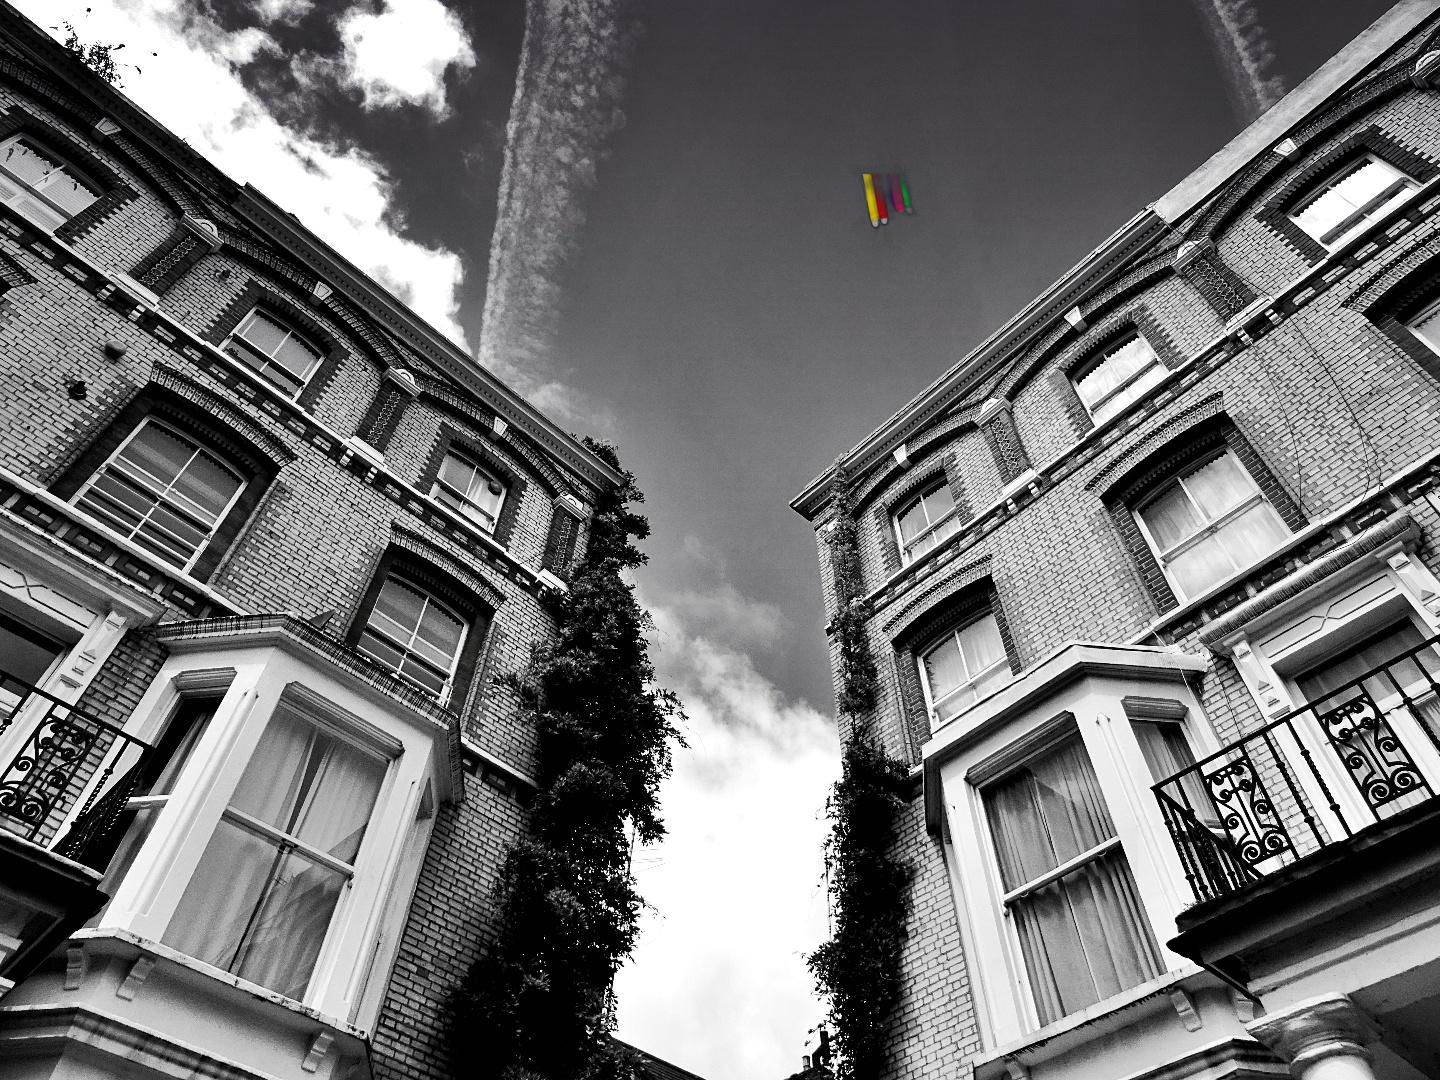penholder: (761, 135, 927, 292)
